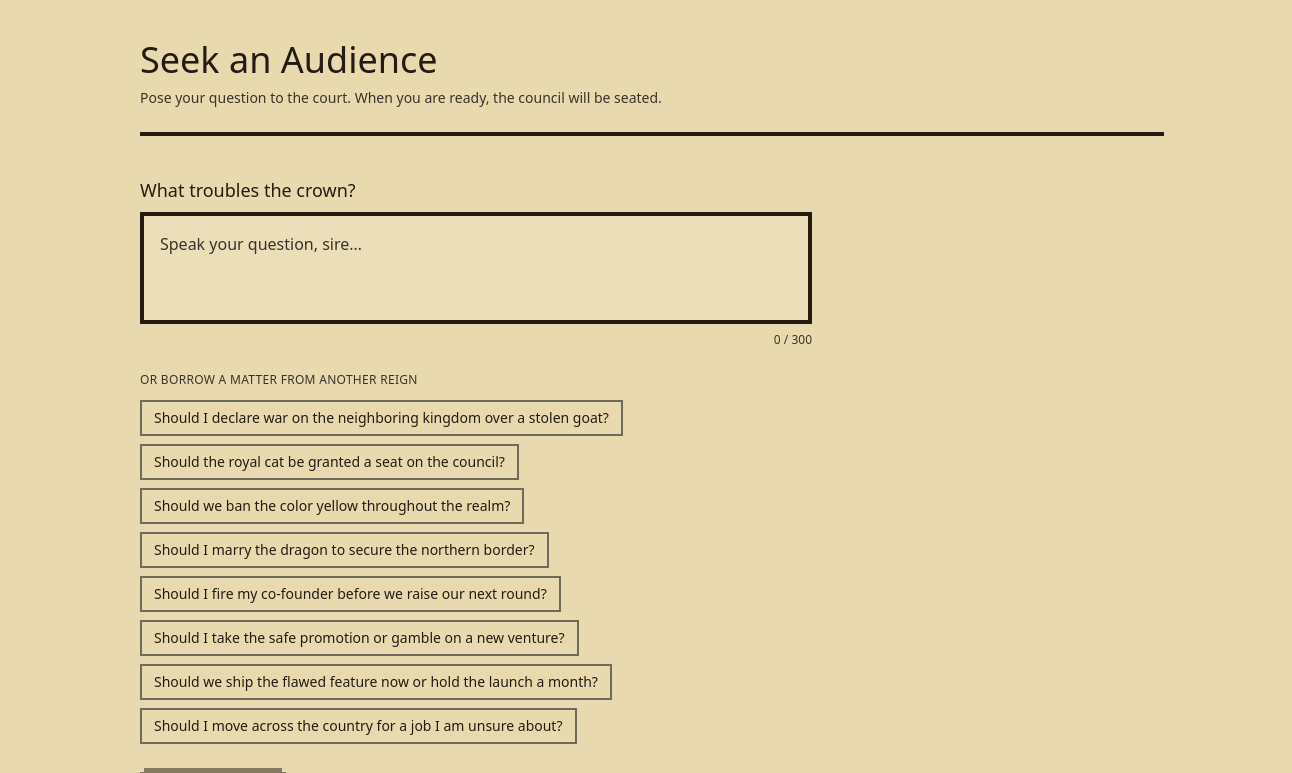
AudienceNew — seating board (T-16) › convenes to petition and hands the seated audience to the chamber
Type "Should I take the Duke of Harrow up on his offer?" into the text box at x=476, y=268, box [140,212,812,324]
(page scrolled)
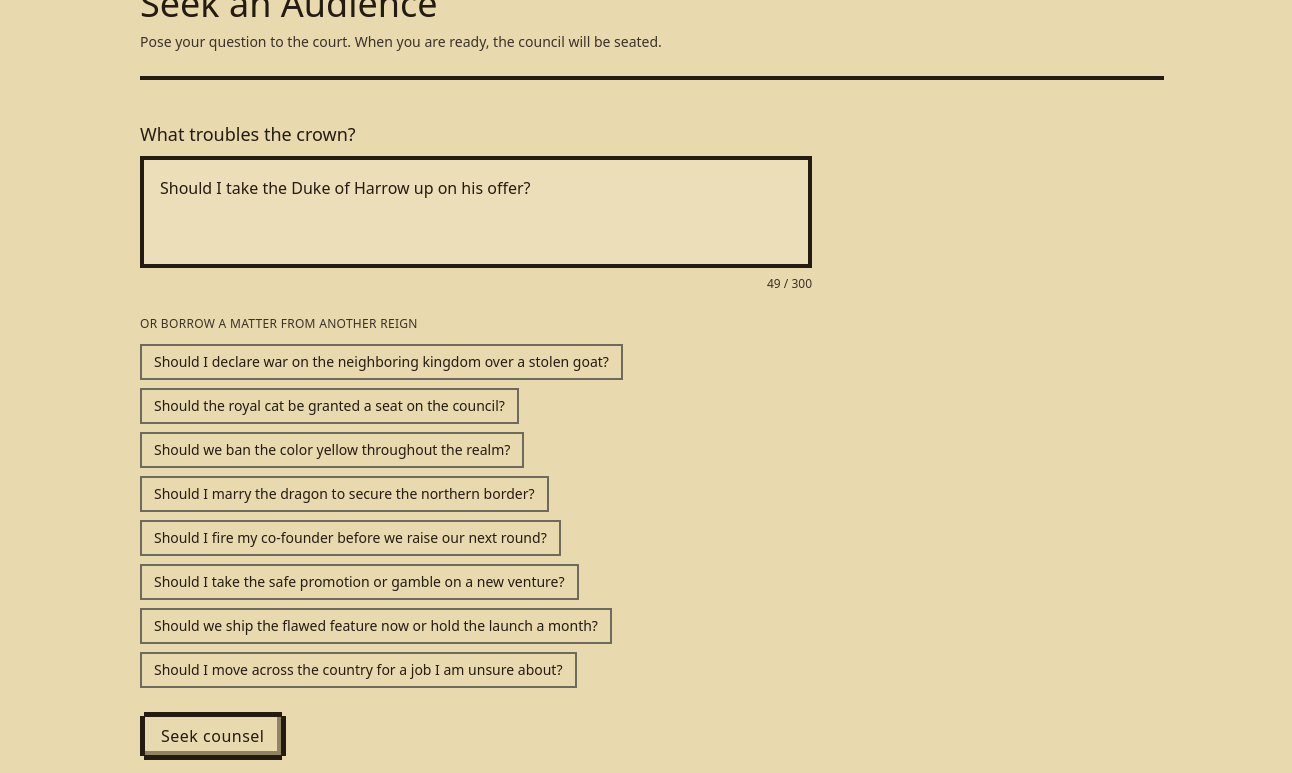
Click the button "Seek counsel" at x=213, y=736, box [144,716,282,756]
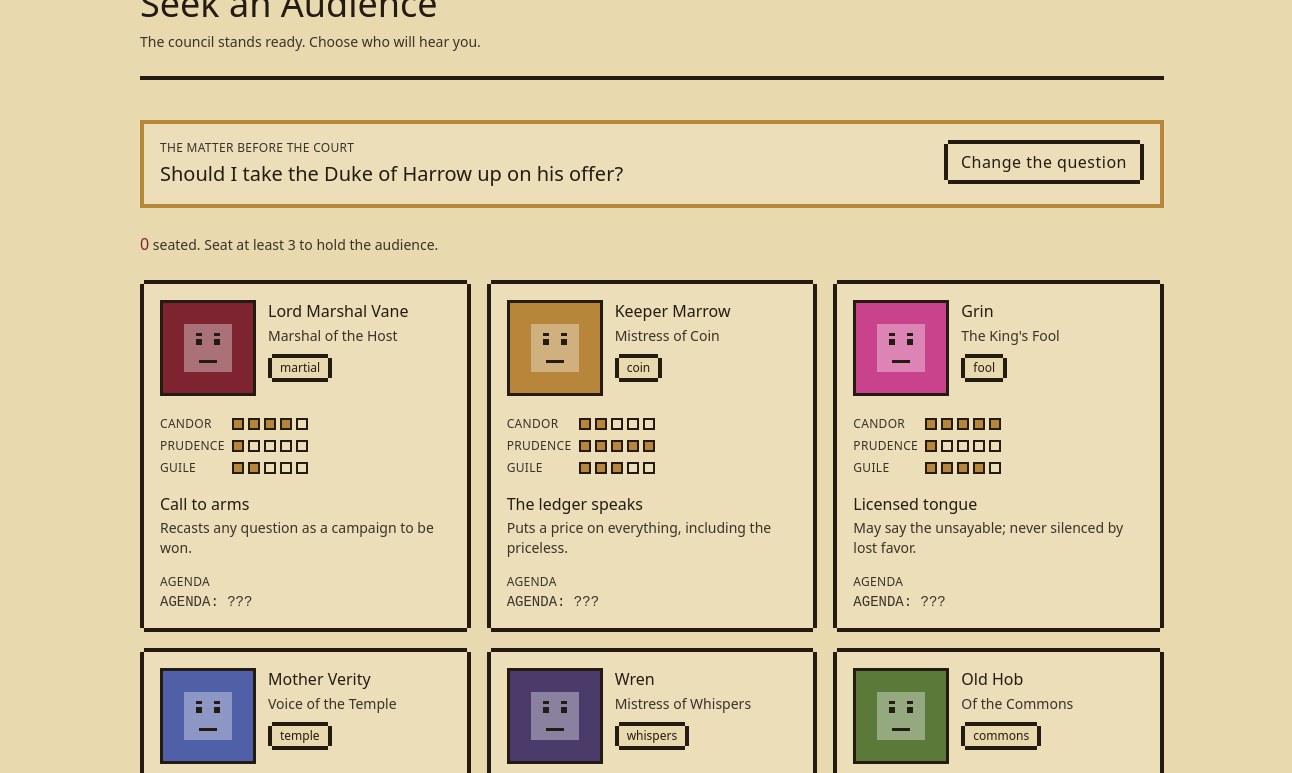
Click the option "Lord Marshal Vane" at x=208, y=348, box [144,284,467,628]
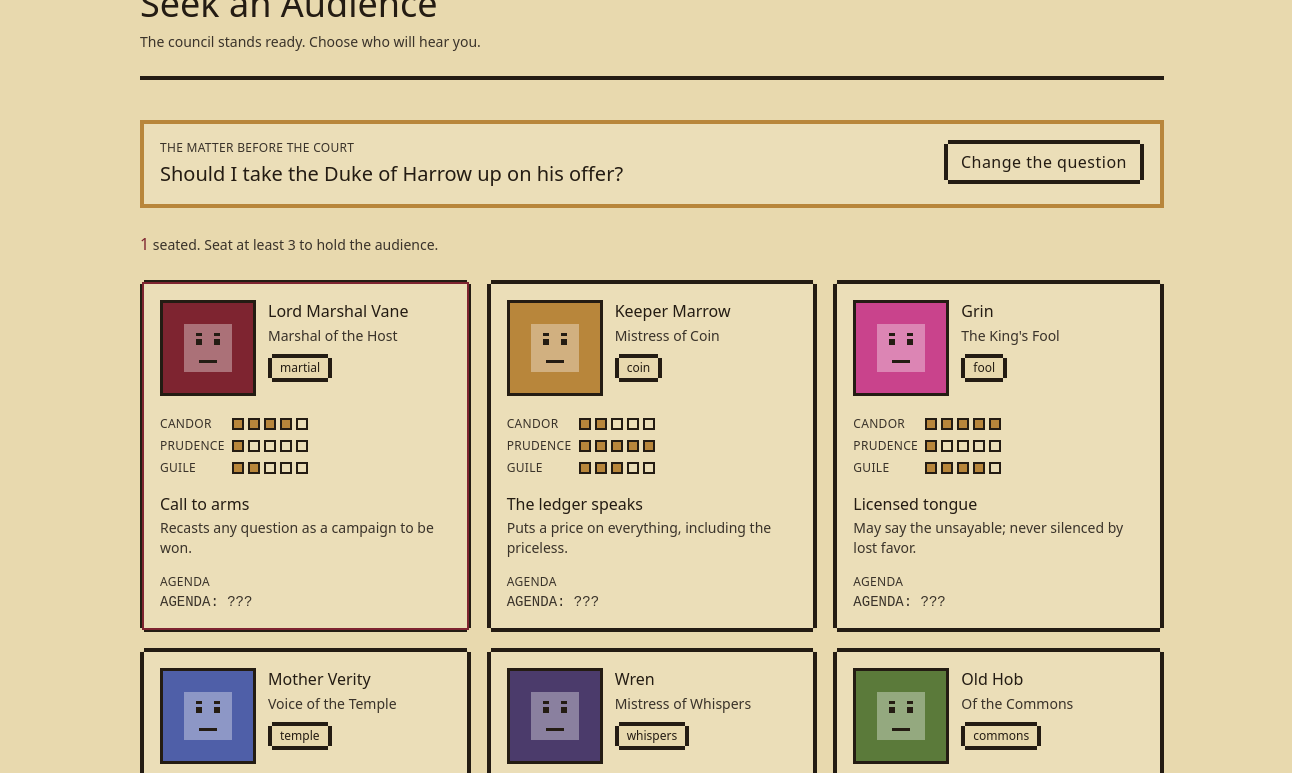
Click the option "Keeper Marrow" at x=555, y=348, box [491,284,813,628]
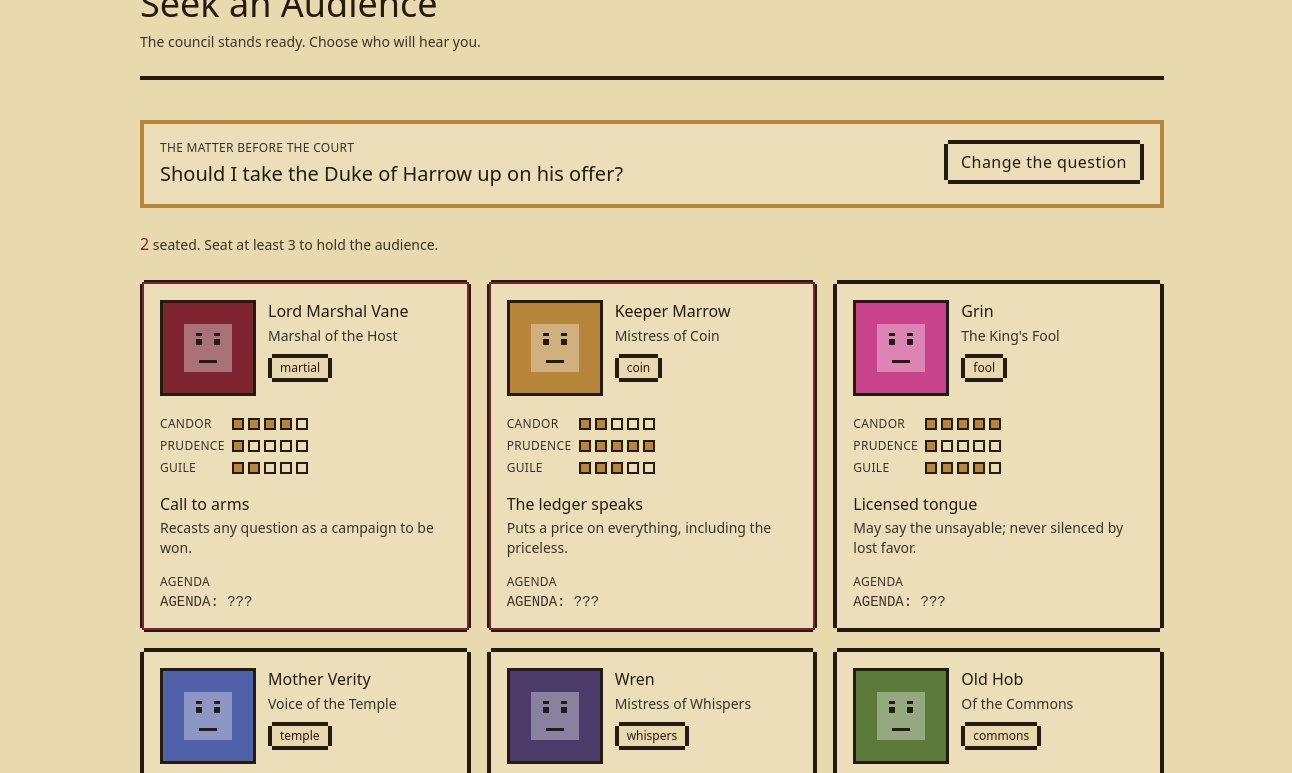
Click the option "Grin" at x=901, y=348, box [837,284,1160,628]
(page scrolled)
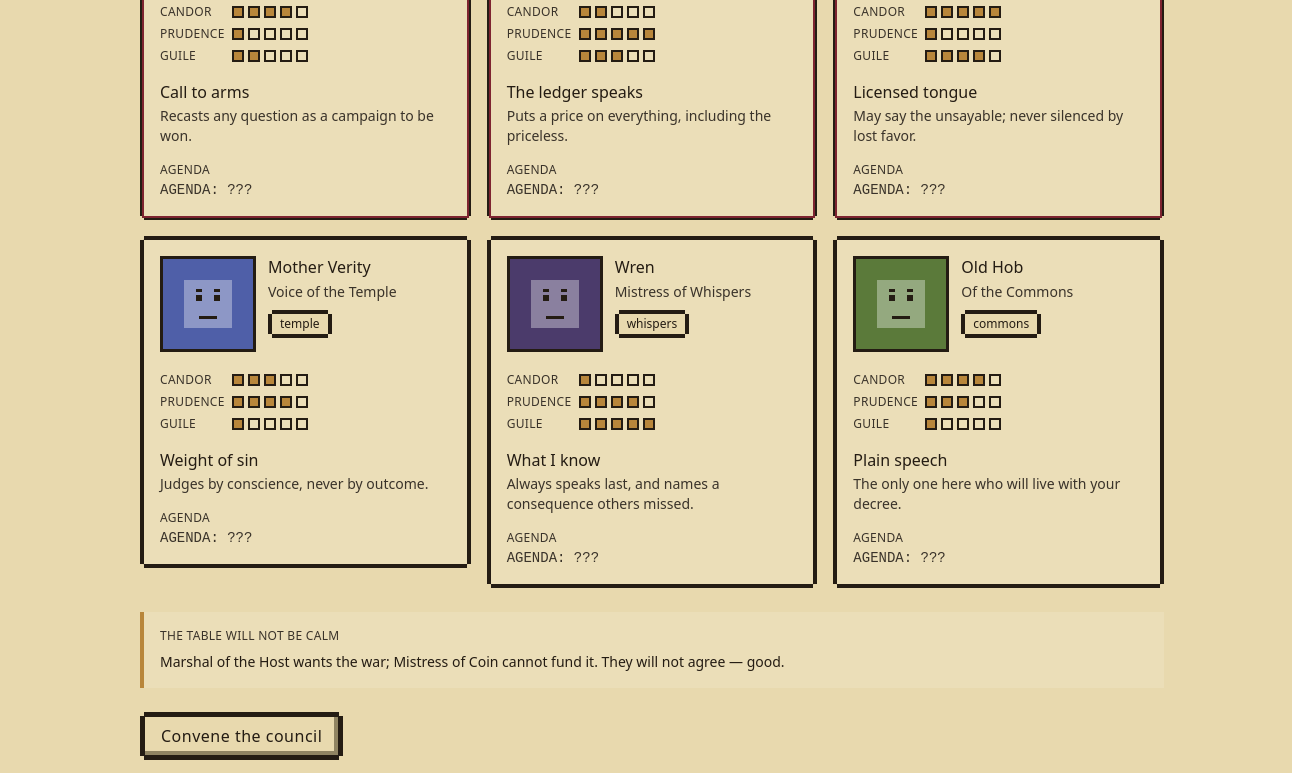
Click the button "Convene the council" at x=242, y=736, box [144,716,339,756]
(page scrolled)
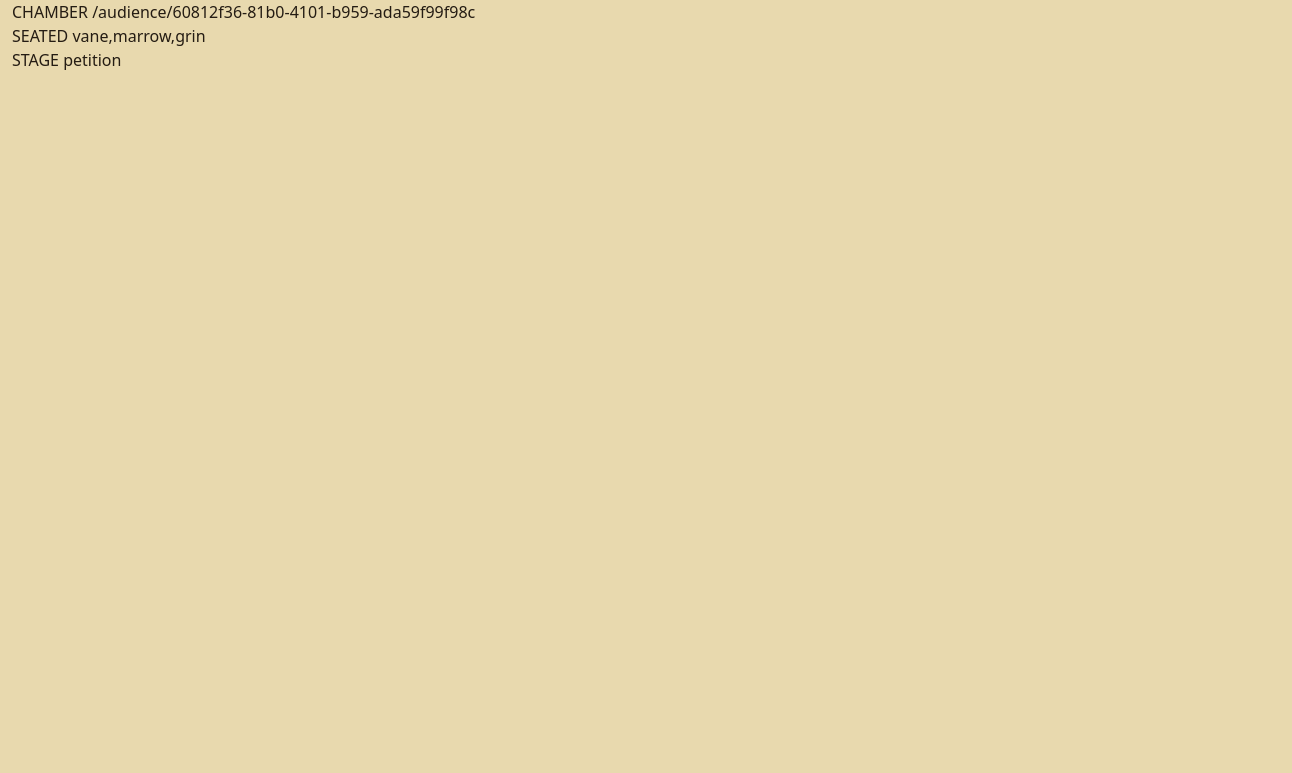
Check: the text "CHAMBER /audience/60812f36-81b0-4101-b959-ada59f99f98c" is shown, box [12,1,475,23]
Check: the text "SEATED vane,marrow,grin" is shown, box [12,25,206,47]
Check: the text "STAGE petition" is shown, box [12,49,121,71]
